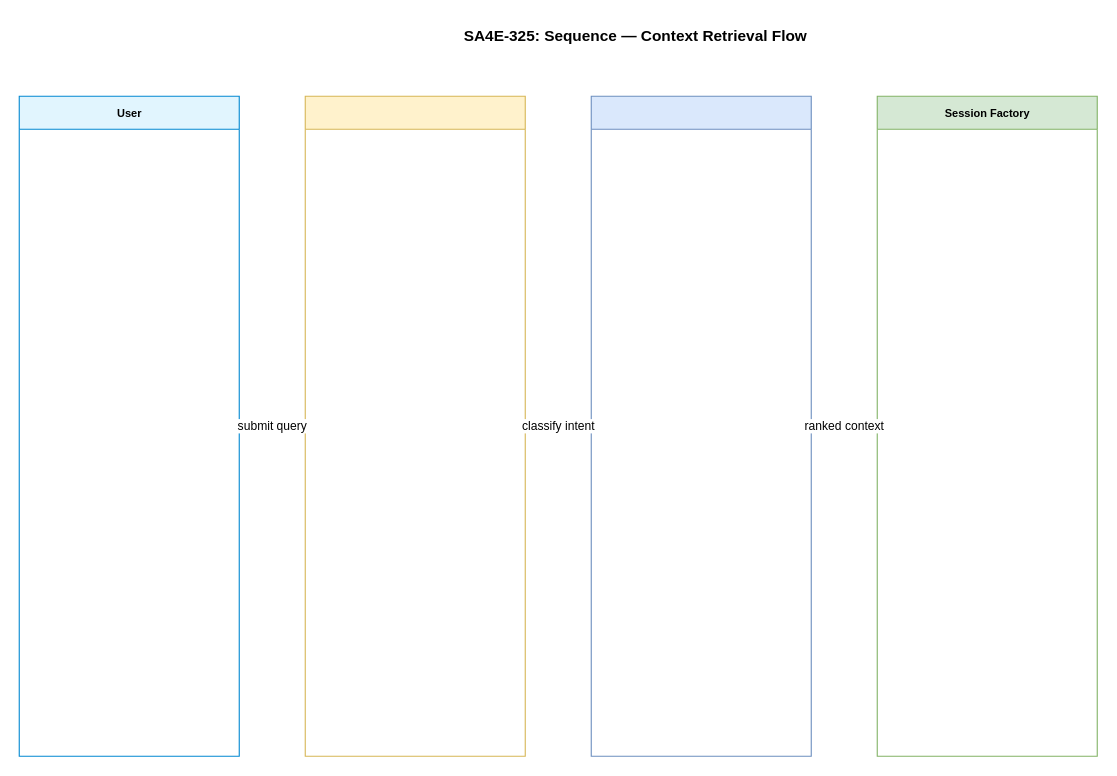
The diagram is 1117 pixels wide and 776 high, and some of its shapes have lost their labels. The shapes that lost their labels are listed below. From the top down, each one's box as (x1, y1, x2, y2) in pixels, then its label:
(304, 95, 525, 756): Query Router
(590, 95, 811, 756): ContextRetriever
